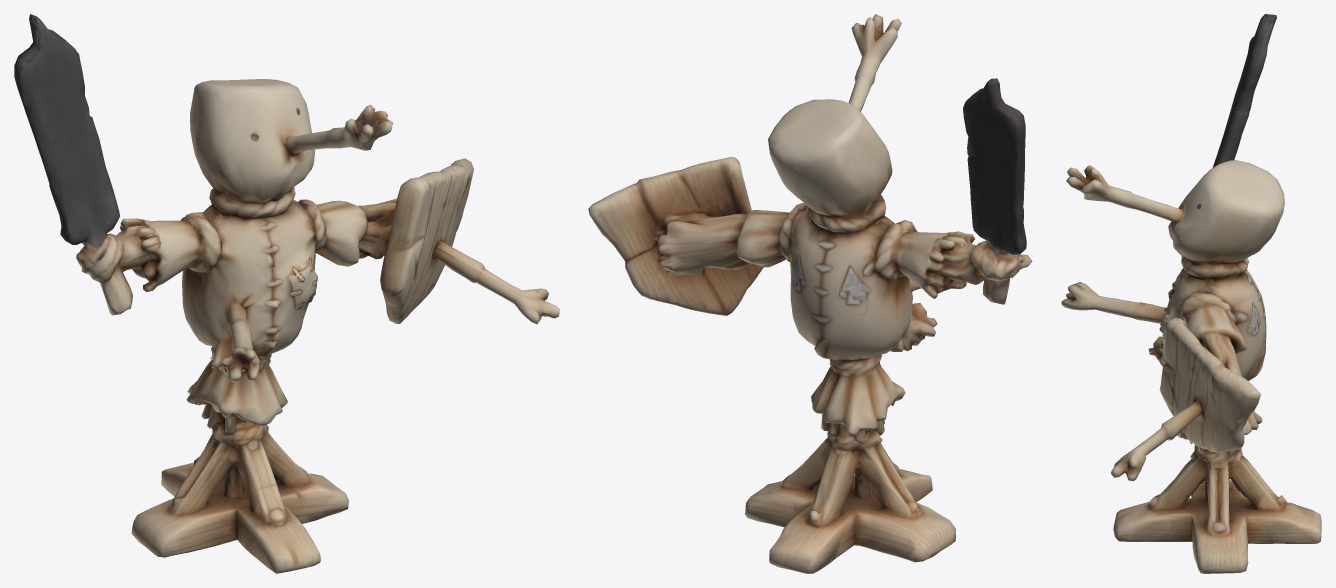
Rendered from Meshy_AI_Dummy_0409223218_texture.glb.
The picture shows the model from 3 angles, left to right: view 1: azimuth 30°, elevation 25°; view 2: azimuth 150°, elevation 25°; view 3: azimuth 270°, elevation 25°; orthographic projection. The views are drawn at different scales.
Bounding box in the file's own units: 1.81 × 2 × 1.06.
1 material, 1 textured.
